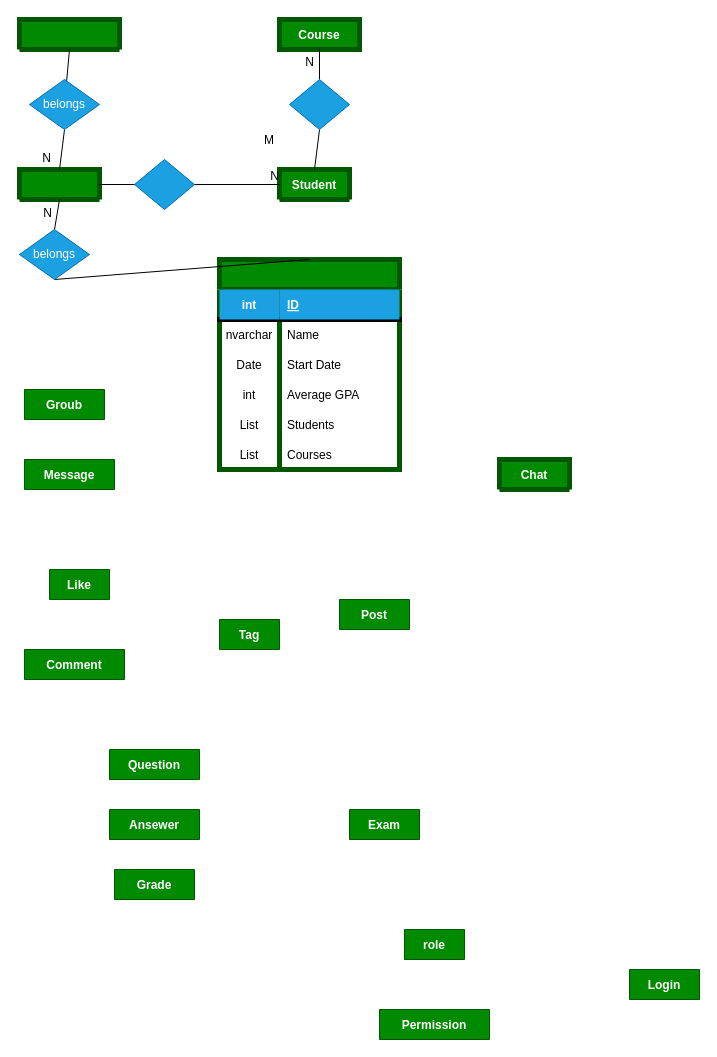
This 717x1057 diagram has some shape labels left out. The box of each missing label's shape, as (x1, y1, x2, y2) in pixels:
Batch: (216, 256, 402, 472)
Department: (16, 16, 122, 52)
enroll: (288, 78, 350, 130)
Faculty: (16, 166, 102, 202)
Teaches: (134, 158, 194, 210)
